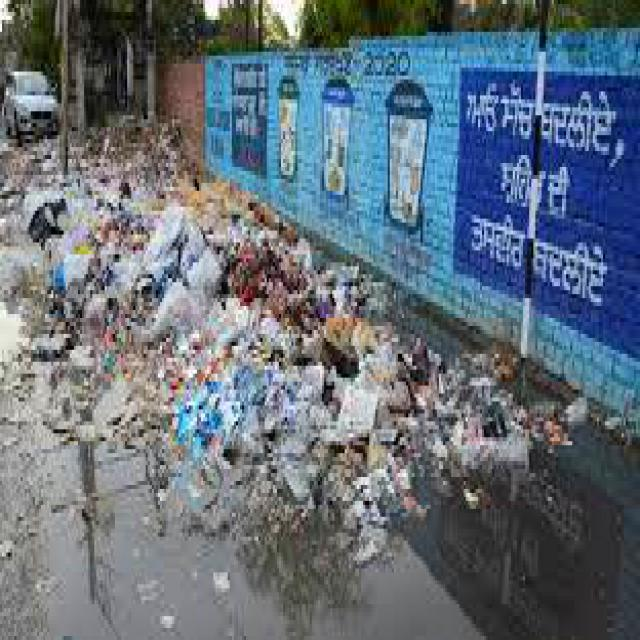garbage: (2, 135, 205, 378), (295, 282, 443, 517), (212, 203, 294, 453), (107, 362, 238, 457), (452, 346, 534, 469)
